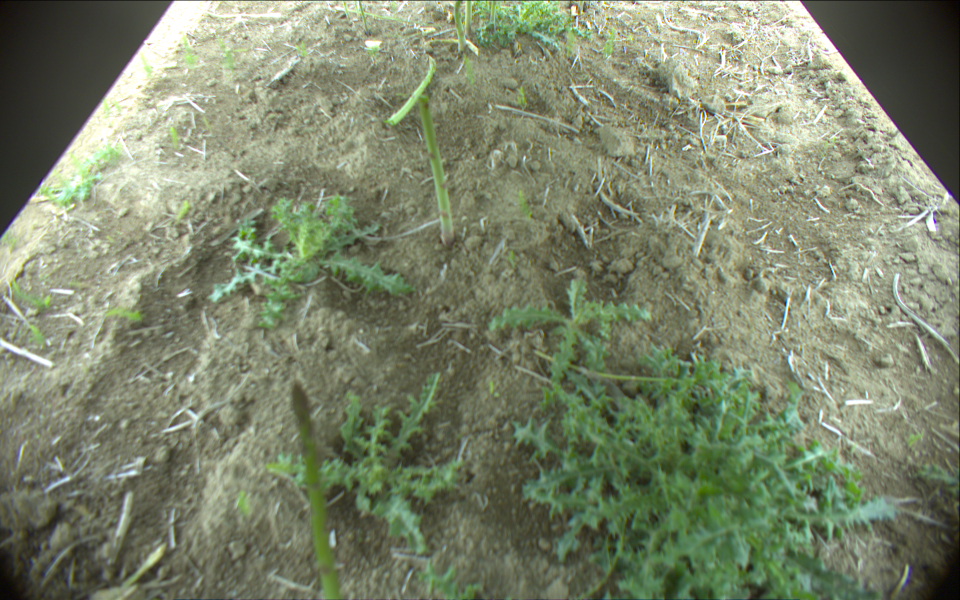aspa: (291, 380, 340, 600), (533, 347, 706, 385), (417, 95, 456, 245), (386, 56, 437, 124), (333, 5, 419, 25), (451, 1, 465, 52), (357, 1, 369, 34), (464, 1, 475, 37), (490, 1, 497, 29), (341, 1, 351, 19)
